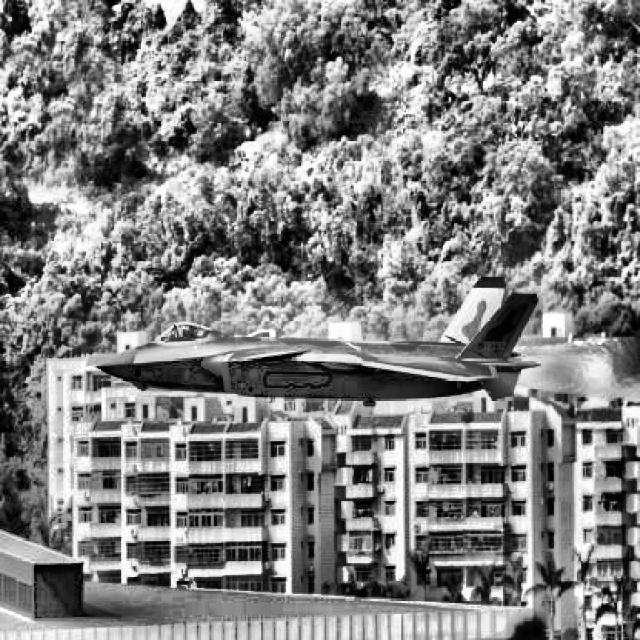J20: (94, 276, 540, 407)
